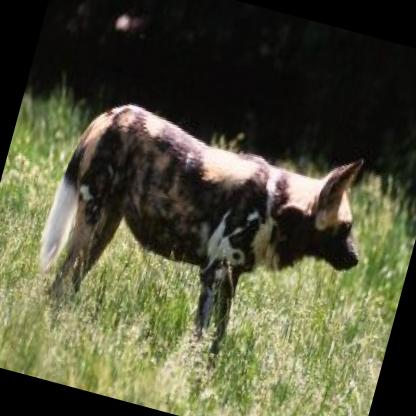African_hunting_dog: (13, 80, 387, 408)
